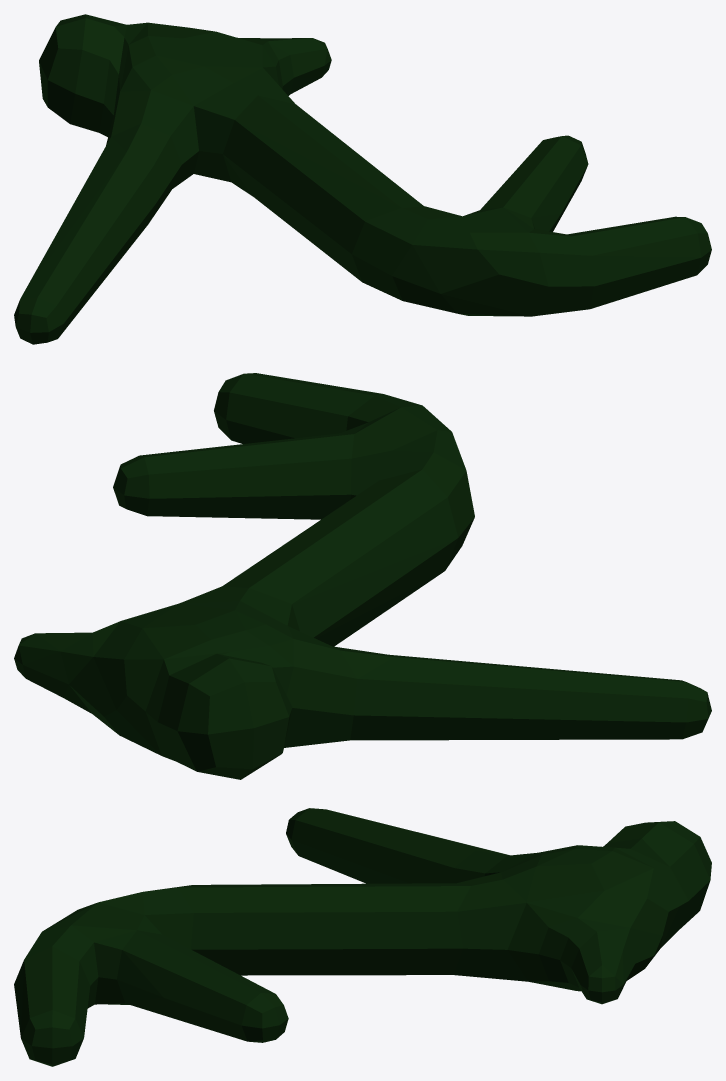
File: Vines2.glb
The picture shows the model from 3 angles, top to bottom: view 1: azimuth 30°, elevation 25°; view 2: azimuth 150°, elevation 25°; view 3: azimuth 270°, elevation 25°; orthographic projection. The views are drawn at different scales.
Parts seen in each view (by area): view 1: Plane; view 2: Plane; view 3: Plane.
Boxes of the visible parts, box(x1,y1,x2,y2) form: Plane: box(14, 14, 711, 344); Plane: box(14, 373, 711, 779); Plane: box(14, 808, 711, 1066).
Bounding box in the file's own units: 3.08 × 0.7517 × 3.36.
Materials: 1 (1 with a texture image).
